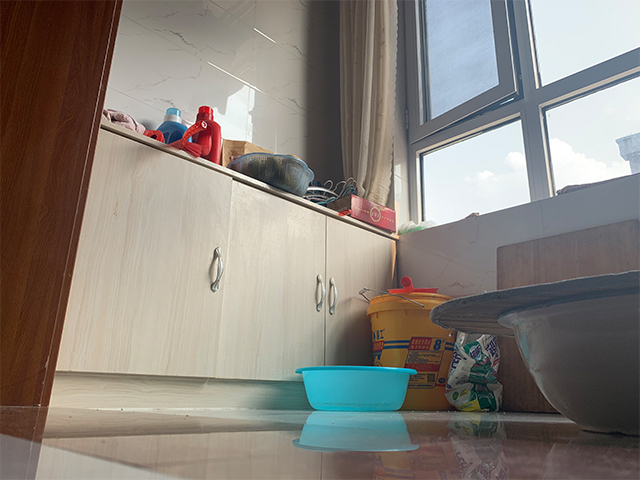cabinet: (48, 118, 400, 408)
curtain: (338, 1, 396, 206)
